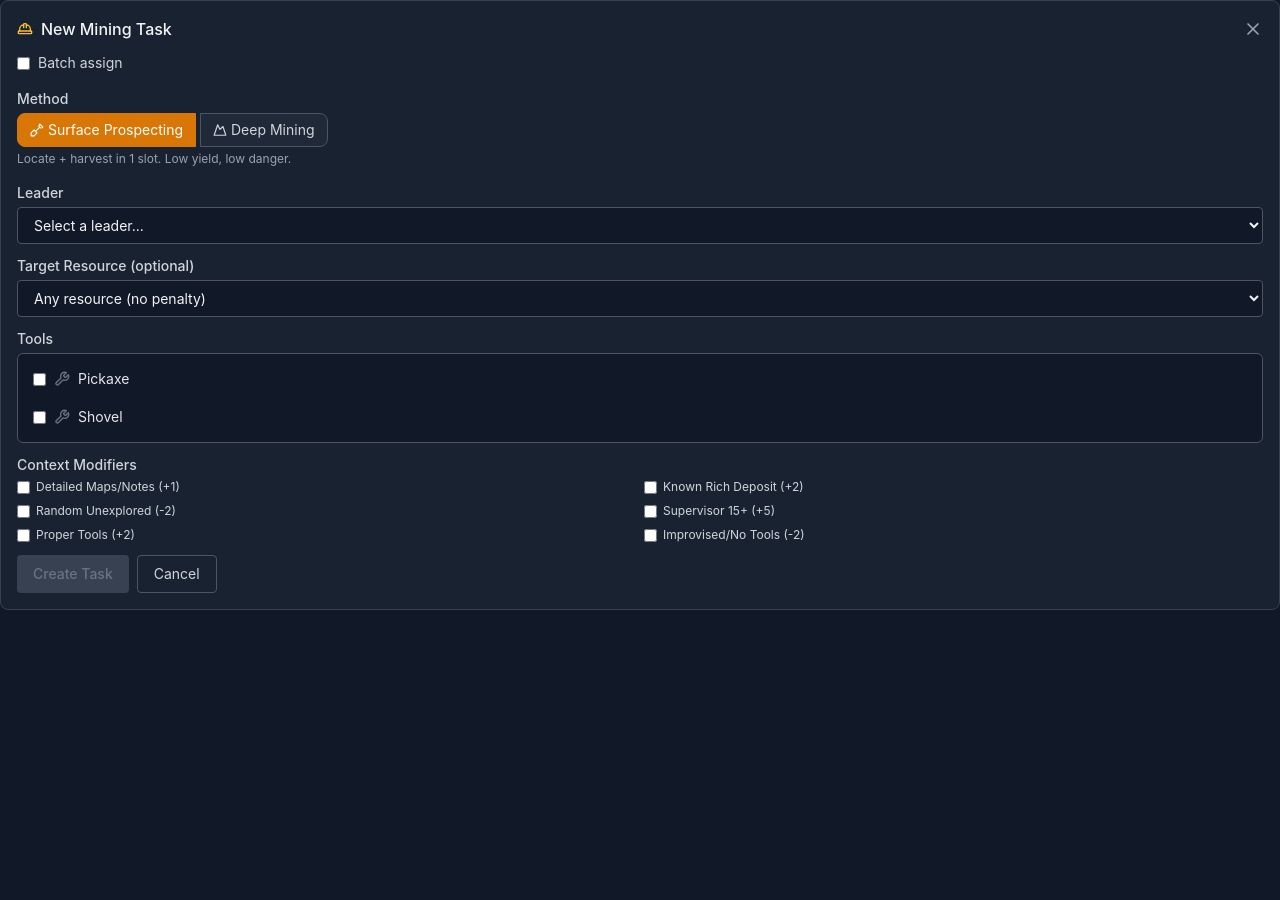
Test case: MiningTaskForm › method switching › shows no-sites message when no mapped sites and Deep Mining
Click the button "Deep Mining" at (264, 130), box 200,113 -> 328,147
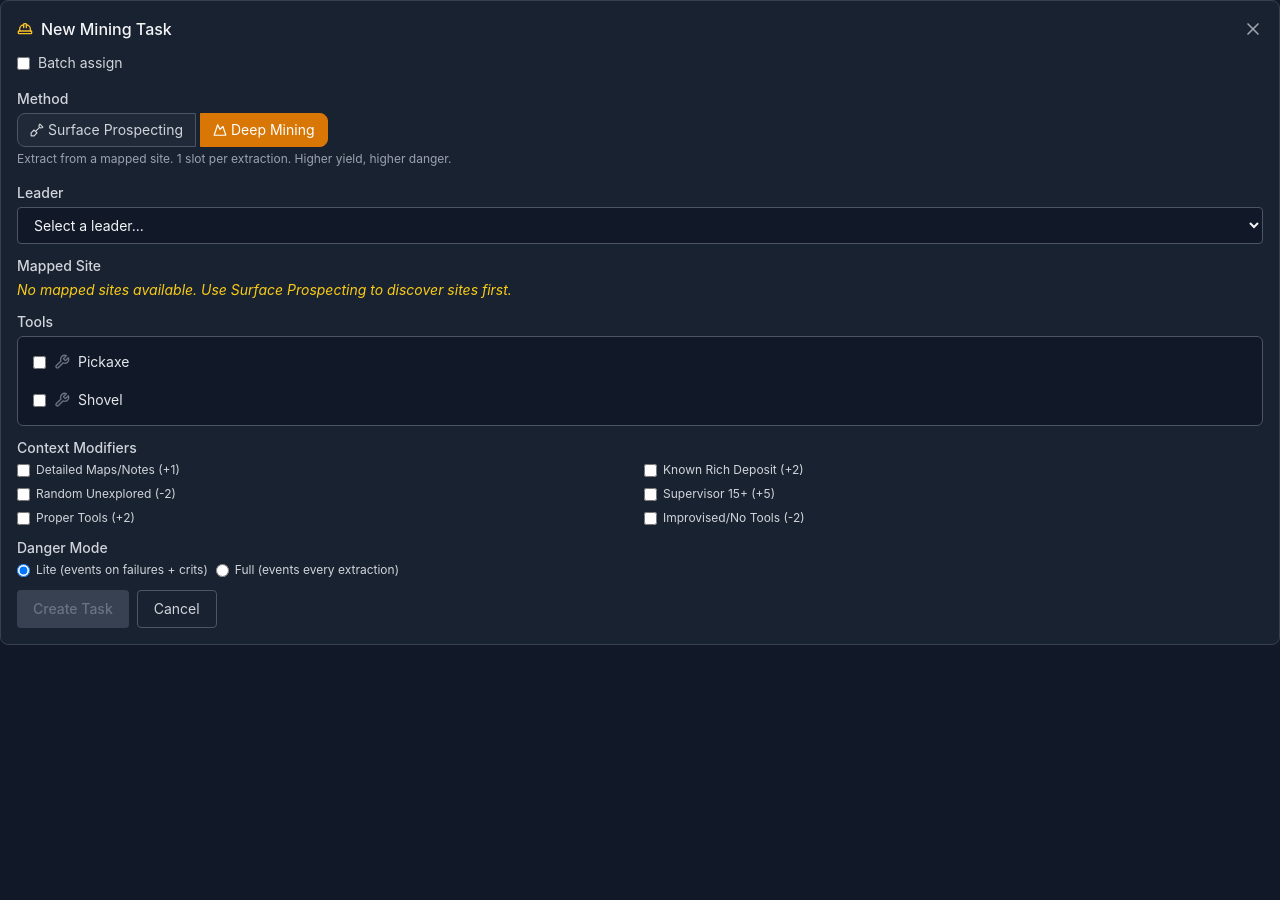
expect the text "No mapped sites available" is shown: met, box 17,281 -> 512,298
